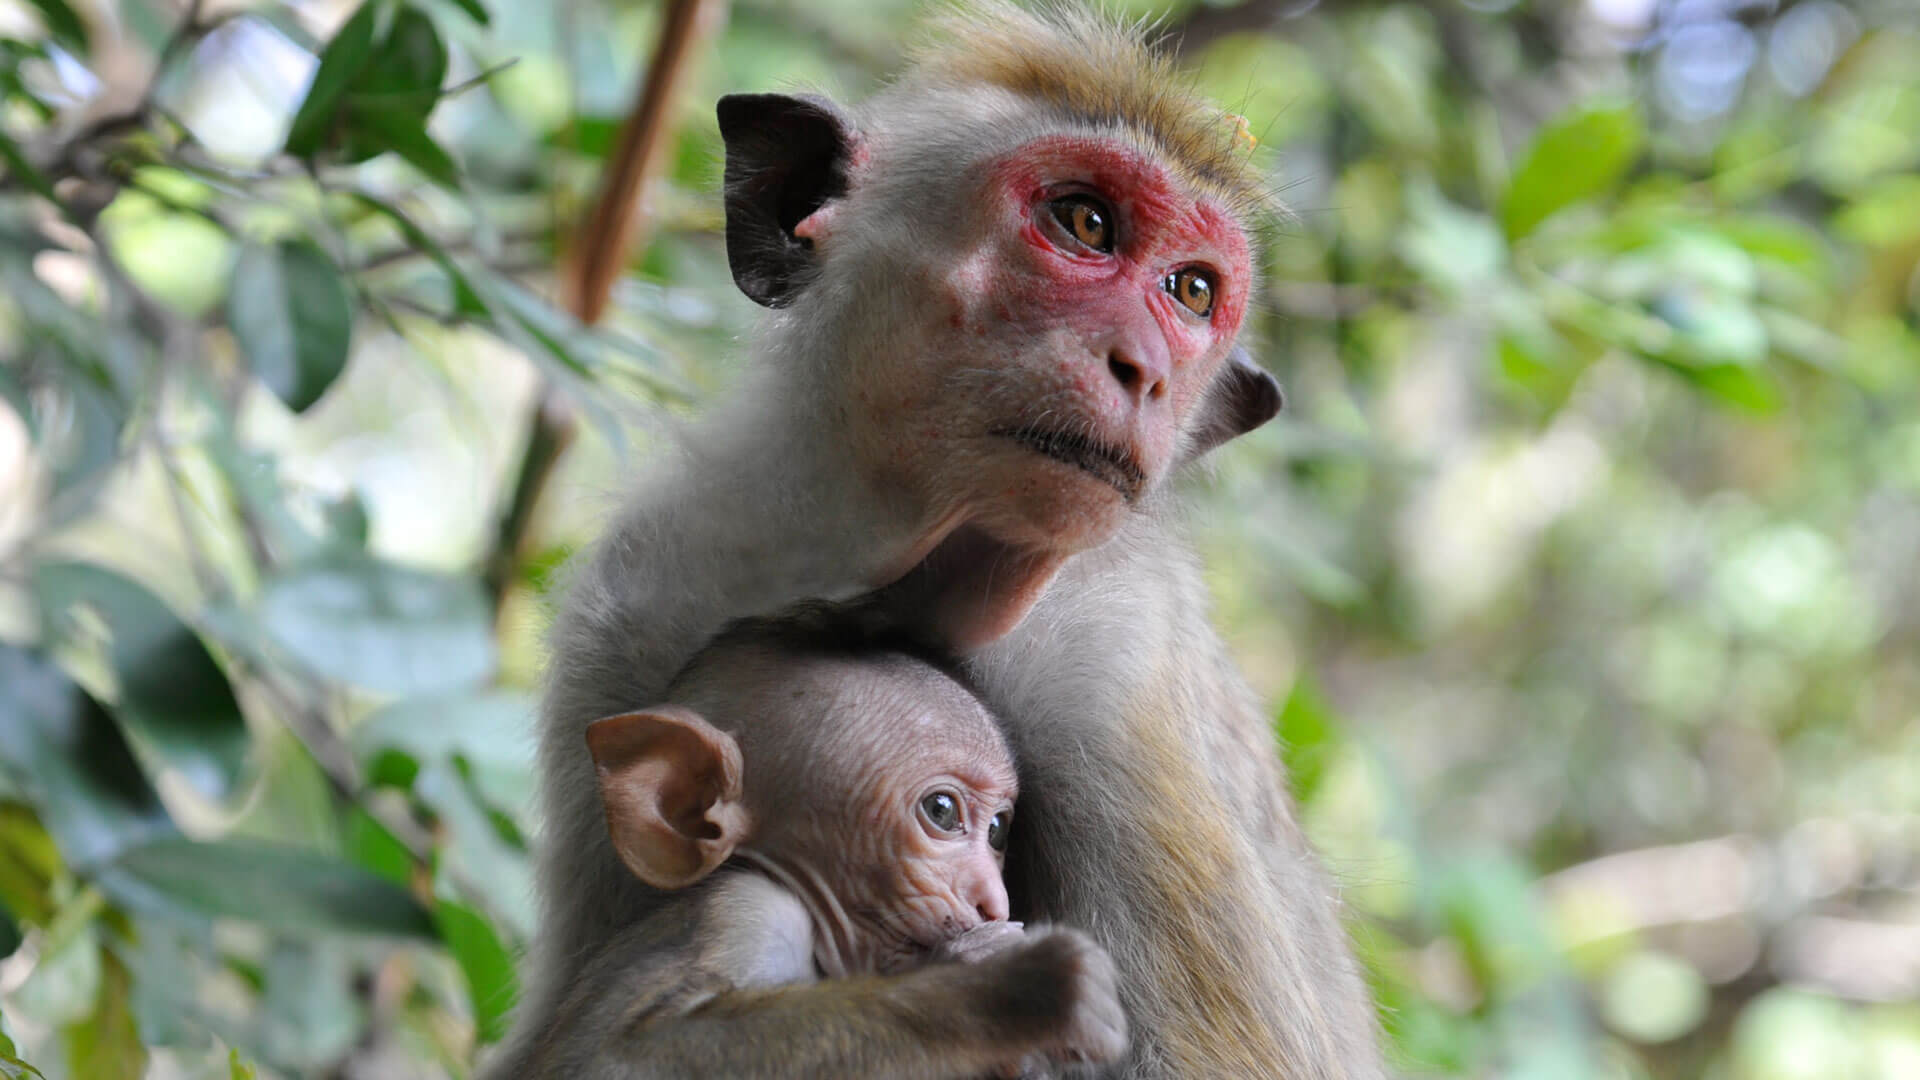Monkey: (651, 20, 1325, 713)
